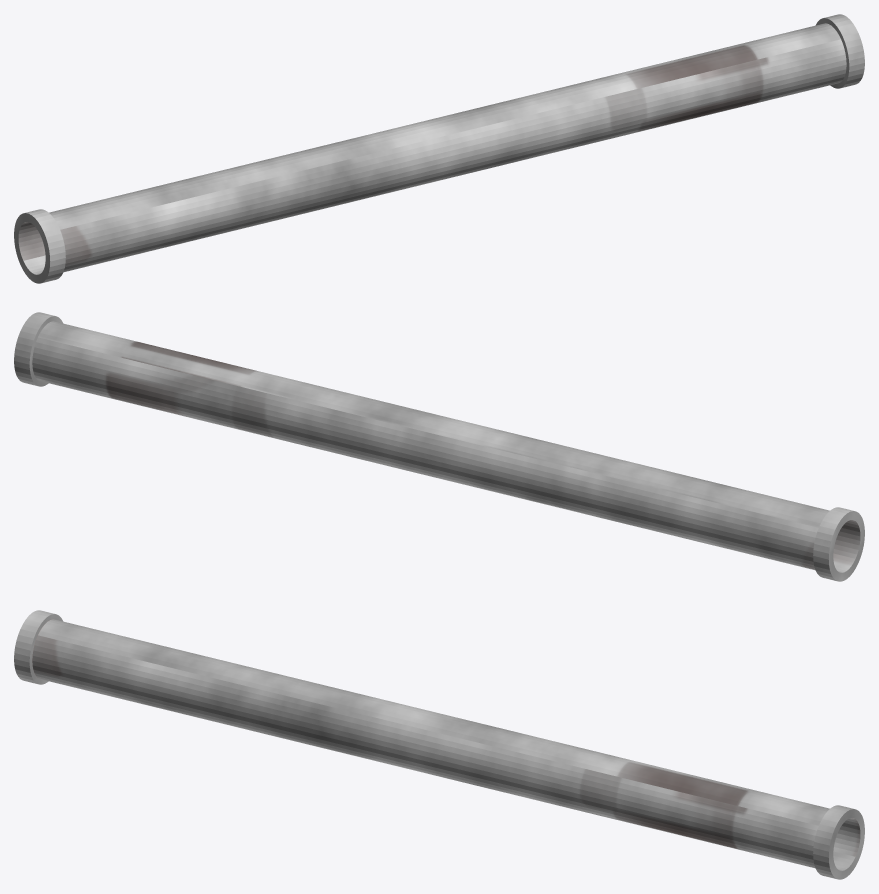
Rendered from Pipe 3.glb.
The picture shows the model from 3 angles, top to bottom: view 1: azimuth 30°, elevation 25°; view 2: azimuth 150°, elevation 25°; view 3: azimuth 330°, elevation 25°; orthographic projection.
Visible parts, largest first — view 1: Pipe thin 500mm WE; view 2: Pipe thin 500mm WE; view 3: Pipe thin 500mm WE.
Boxes of the visible parts, left/top/right/bottom form: Pipe thin 500mm WE: left=14, top=14, right=864, bottom=283; Pipe thin 500mm WE: left=14, top=312, right=864, bottom=581; Pipe thin 500mm WE: left=14, top=610, right=864, bottom=879.
Bounding box in the file's own units: 36.99 × 2.85 × 2.85.
Materials: 1 (1 with a texture image).
